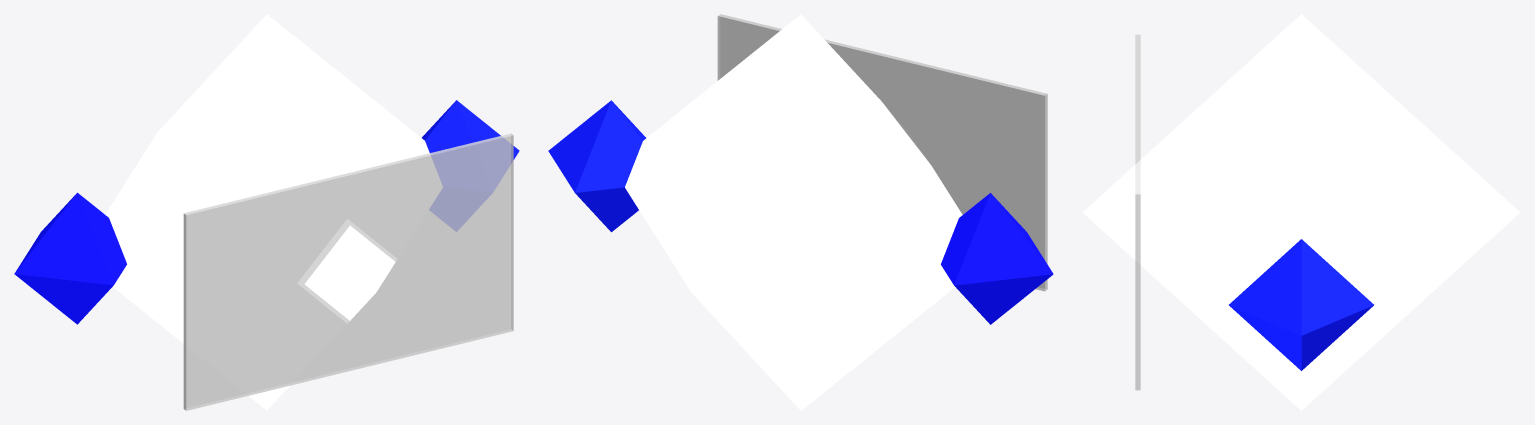
The model's file is snivel-slider.glb.
3 views of the same model, side by side, from view 1: azimuth 30°, elevation 25°; view 2: azimuth 150°, elevation 25°; view 3: azimuth 270°, elevation 25° (orthographic).
Visible parts, largest first — view 1: Octahedron, slider, Octahedron_2, Octahedron_1; view 2: Octahedron, slider, Octahedron_2, Octahedron_1; view 3: Octahedron, Octahedron_1, slider.
Part boxes in pixels (left/top/right/bottom): Octahedron: left=105, top=14, right=441, bottom=410; slider: left=183, top=133, right=513, bottom=410; Octahedron_2: left=14, top=192, right=126, bottom=324; Octahedron_1: left=422, top=100, right=519, bottom=231; Octahedron: left=625, top=14, right=962, bottom=410; slider: left=717, top=14, right=1047, bottom=291; Octahedron_2: left=941, top=193, right=1053, bottom=324; Octahedron_1: left=548, top=100, right=646, bottom=232; Octahedron: left=1082, top=14, right=1520, bottom=410; Octahedron_1: left=1229, top=239, right=1373, bottom=370; slider: left=1135, top=34, right=1140, bottom=390.
Size of the model in its own units: 1.6 by 1.2 by 1.2.
